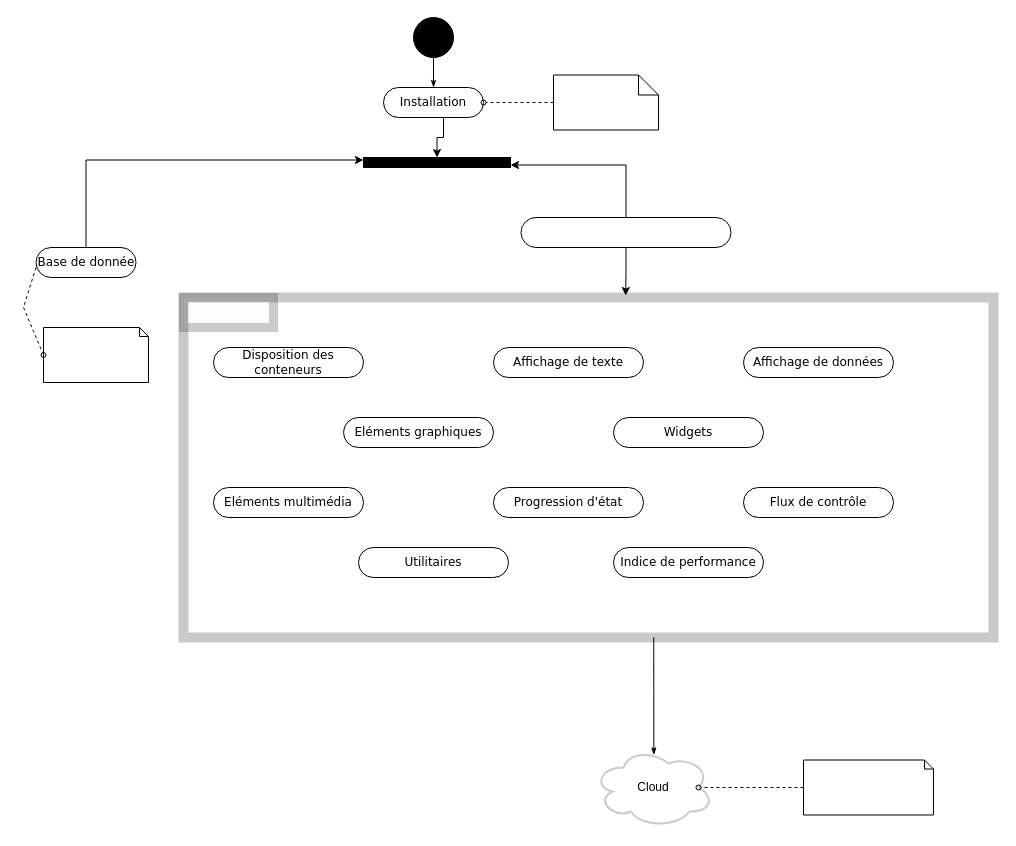
The diagram is 1016 pixels wide and 846 high, and some of its shapes have lost their labels. Here are the shapes that lost their labels. From the top down, the centre of each, then its label:
point 605,102: Streamlit Autres librairies
point 625,232: Visualisation/Représentation
point 228,312: Composants
point 95,354: SQL ou fichier csv, txt, pdf, etc
point 868,787: Streamlit Cloud, Heroku, ...
